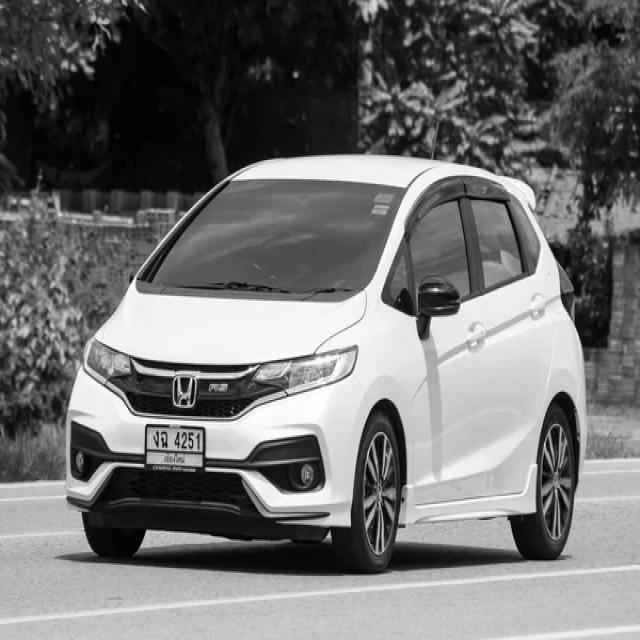Car: (66, 155, 588, 573)
